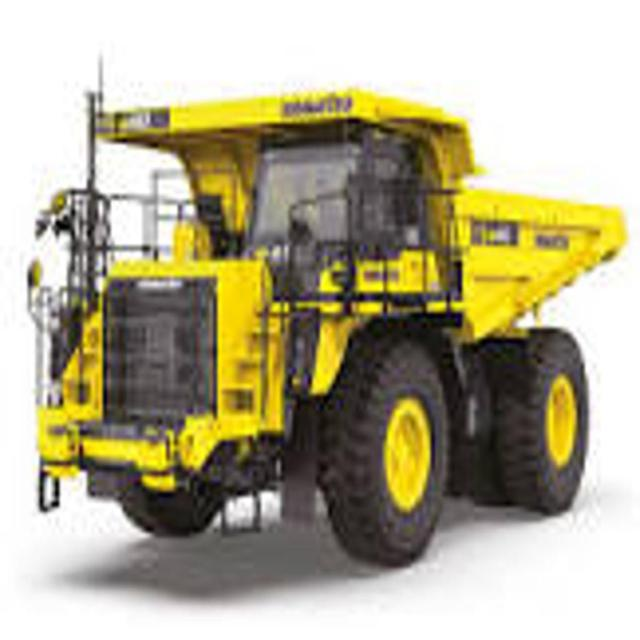dump_truck: (26, 52, 631, 584)
